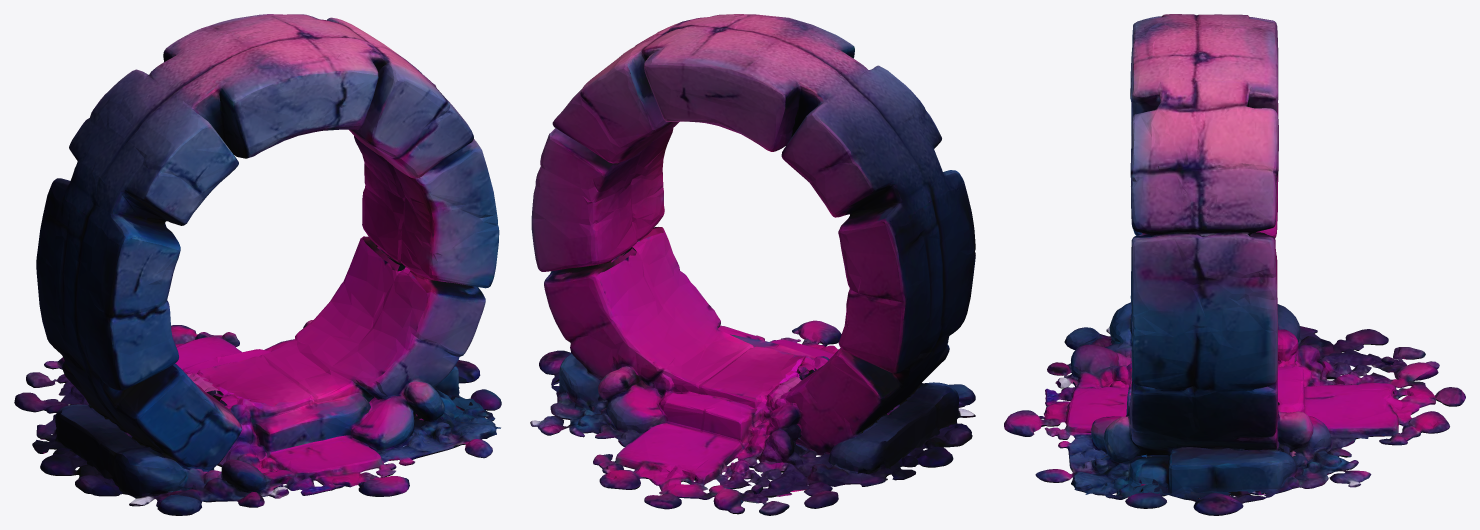
File: ring-fragment-west-generated-2026-04-20T00-06-05-730Z.medium.glb
The picture shows the model from 3 angles, left to right: view 1: azimuth 30°, elevation 25°; view 2: azimuth 150°, elevation 25°; view 3: azimuth 270°, elevation 25°; orthographic projection. The views are drawn at different scales.
Visible parts, largest first — view 1: temp_mesh.ply; view 2: temp_mesh.ply; view 3: temp_mesh.ply.
Boxes of the visible parts, bbox=[...] form: temp_mesh.ply: bbox=[14, 14, 501, 515]; temp_mesh.ply: bbox=[530, 14, 975, 515]; temp_mesh.ply: bbox=[1004, 14, 1465, 515].
Bounding box in the file's own units: 1.97 × 1.71 × 1.88.
Materials: 1 (1 with a texture image).
